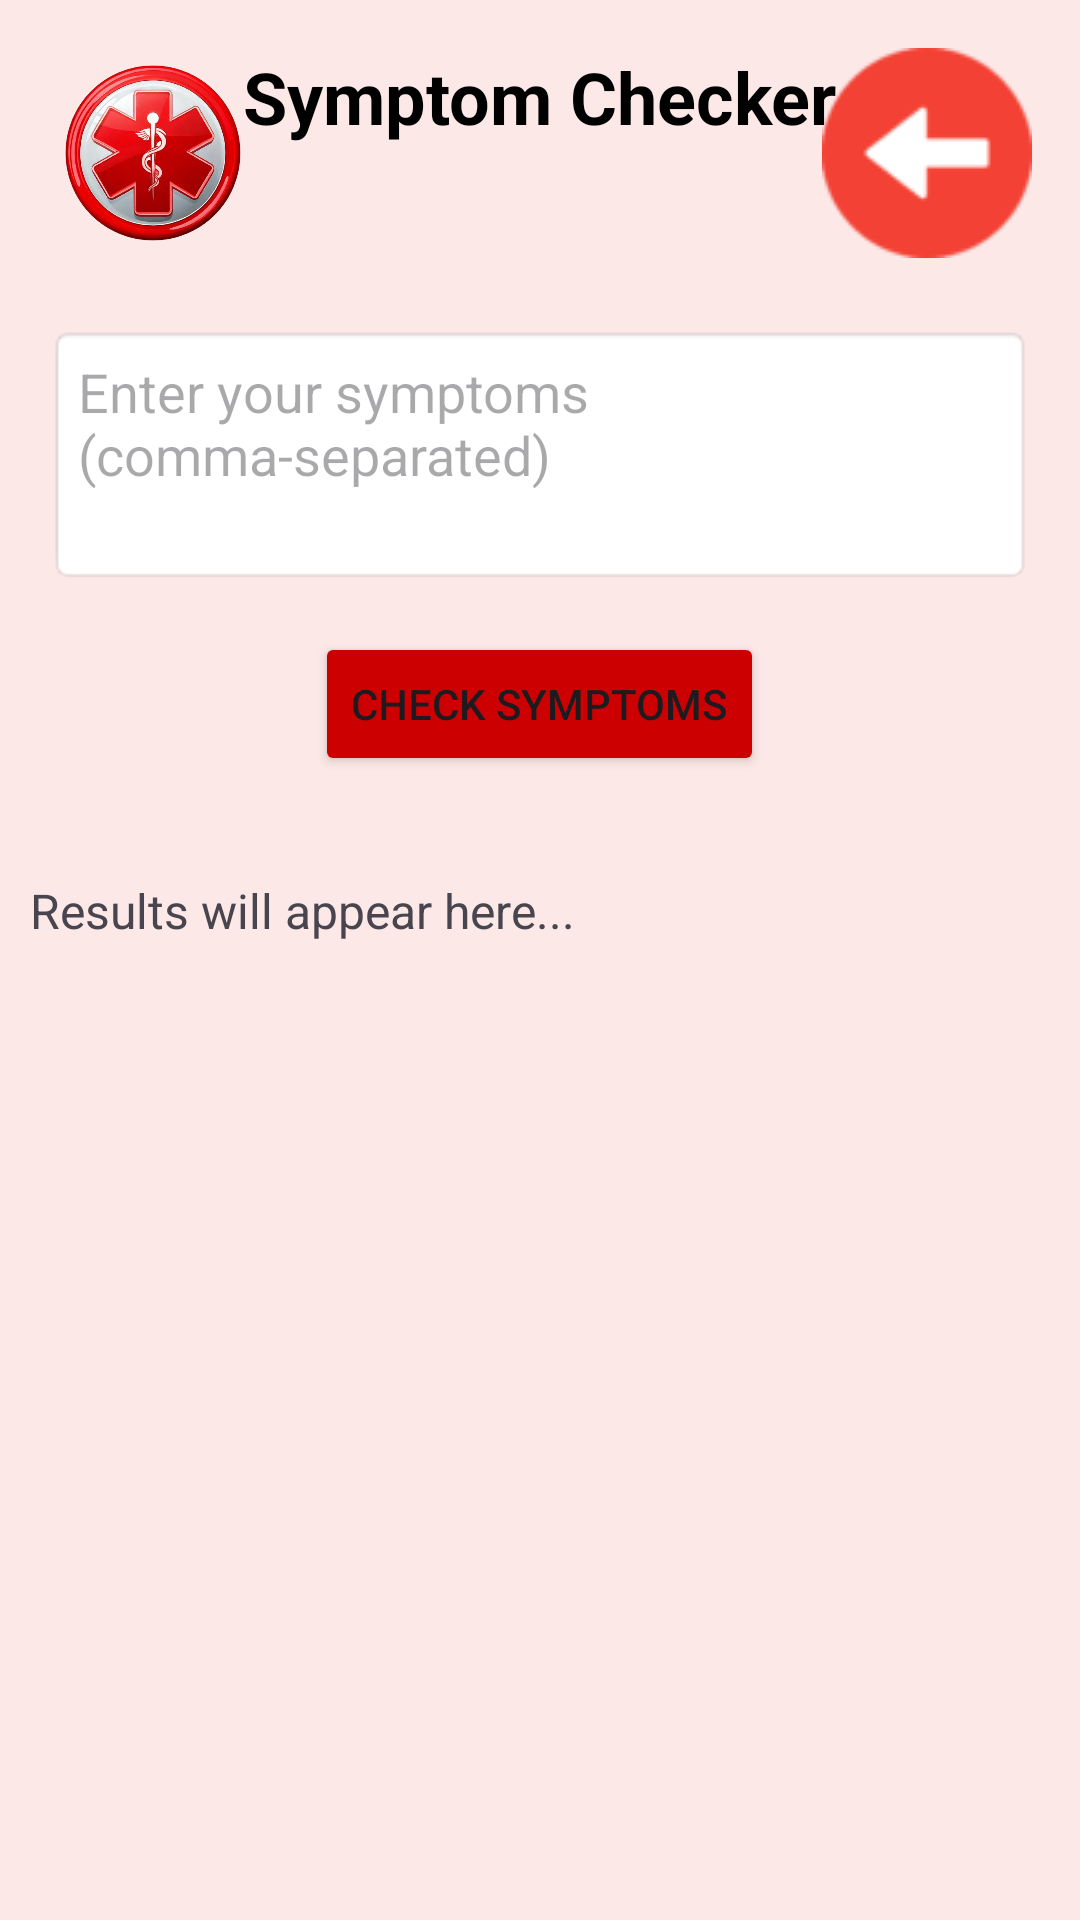

Point at icon controls on the screen. Image size 1080x1920, points as point (x, y).
Back button: point (927, 153)
